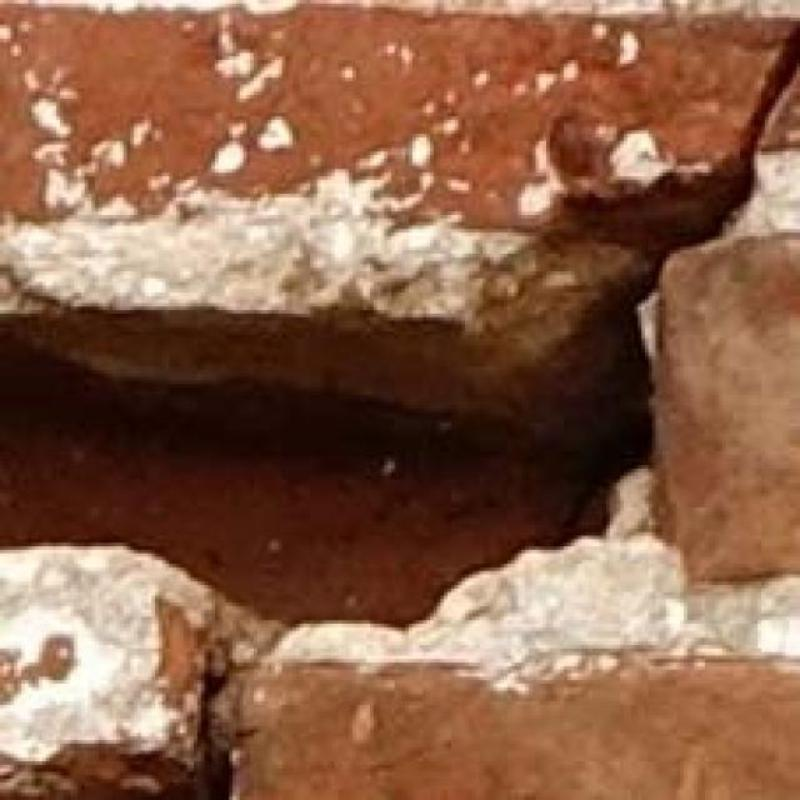pothole: (0, 27, 799, 623), (68, 660, 240, 799)
